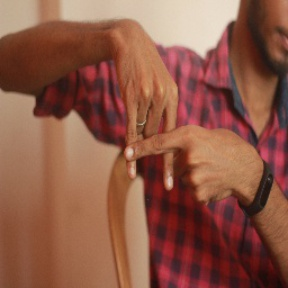H: (104, 86, 209, 193)
